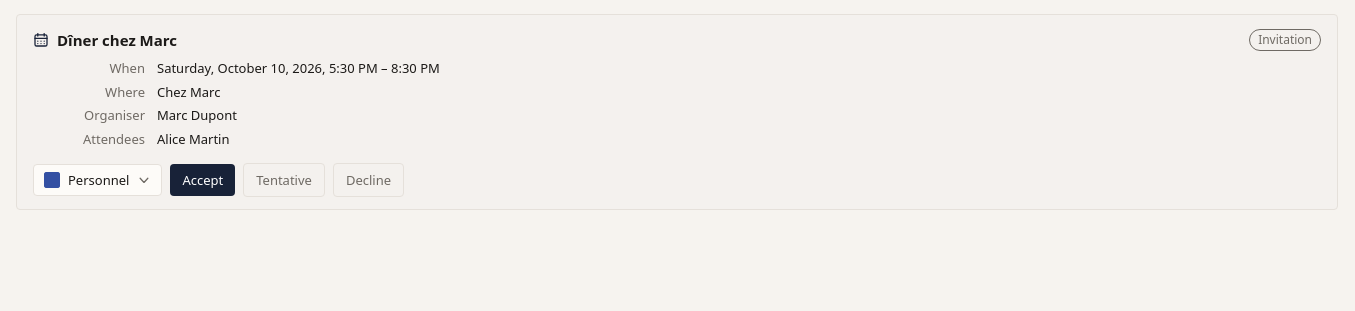
Scenario: InvitationCard › never offers the birthdays calendar
Click the dropdown named "Calendar" at [98, 180], box top-left (33, 164), bottom-right (162, 196)
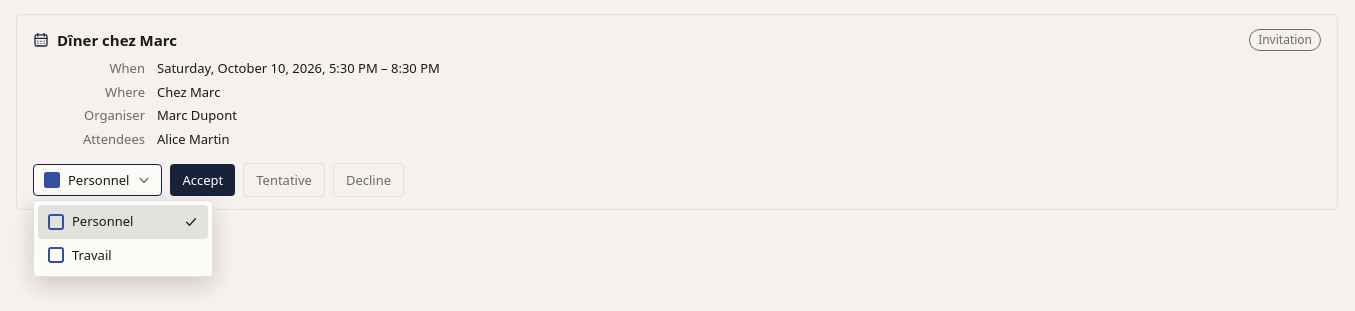
Expected: the options read "Personnel", "Travail", in this order, top-left (38, 205), bottom-right (208, 238); top-left (48, 246), bottom-right (112, 264)
